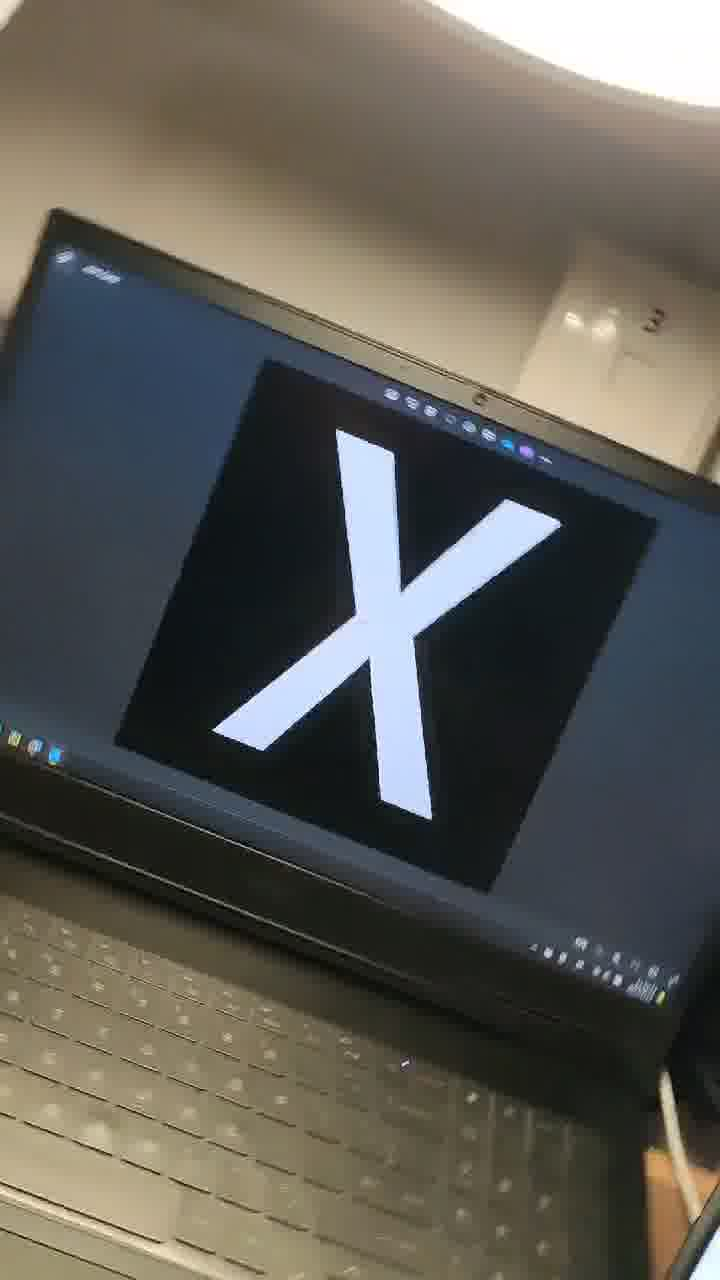X: (223, 400, 604, 849)
